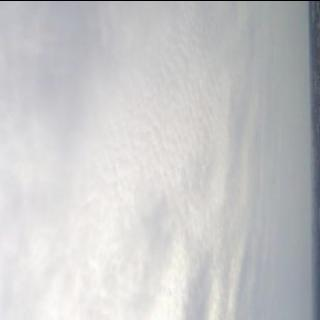Altocumulus: (1, 0, 312, 320)
